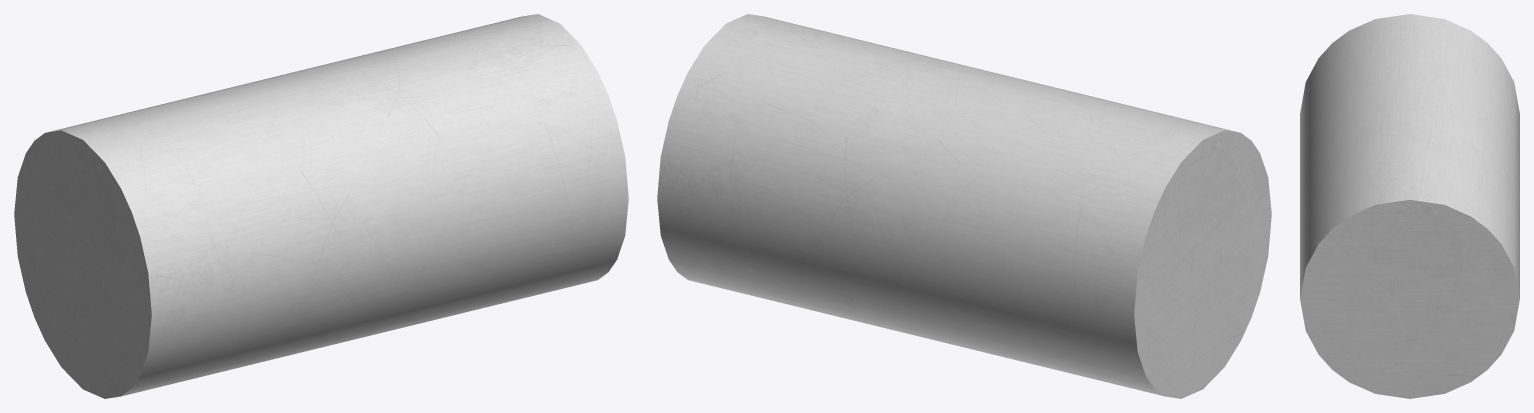
File: heater.obj
3 renders of one model, left to right at view 1: azimuth 30°, elevation 25°; view 2: azimuth 150°, elevation 25°; view 3: azimuth 270°, elevation 25°, orthographic. The views are drawn at different scales.
Visible parts, largest first — view 1: Heater1; view 2: Heater1; view 3: Heater1.
Boxes of the visible parts, x1=… form: Heater1: x1=14, y1=14, x2=628, y2=398; Heater1: x1=657, y1=14, x2=1271, y2=398; Heater1: x1=1300, y1=14, x2=1519, y2=398.
Bounding box in the file's own units: 4 × 2 × 2.
Materials: 1 (1 with a texture image).
